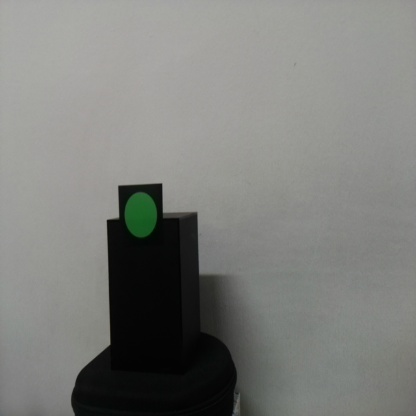id_5: (118, 184, 164, 249)
